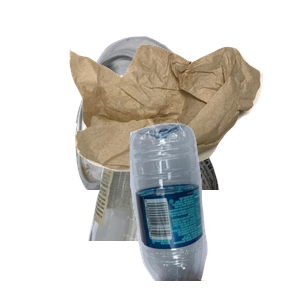glass: (86, 120, 277, 300)
metal: (73, 34, 285, 214)
plastic: (127, 120, 300, 300)
trash: (67, 42, 300, 206)
